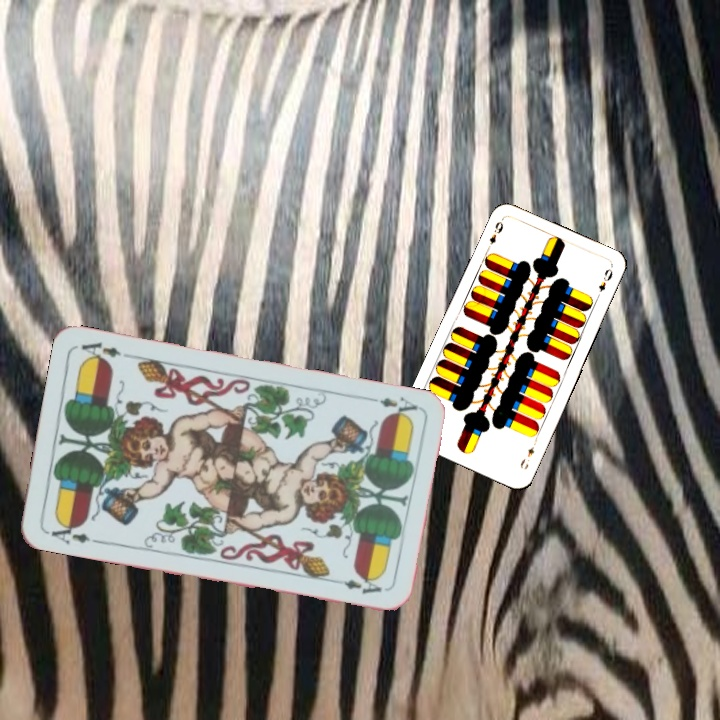E9: (485, 217, 506, 247), (516, 443, 537, 472)
EA: (362, 392, 420, 421), (47, 517, 93, 547)
